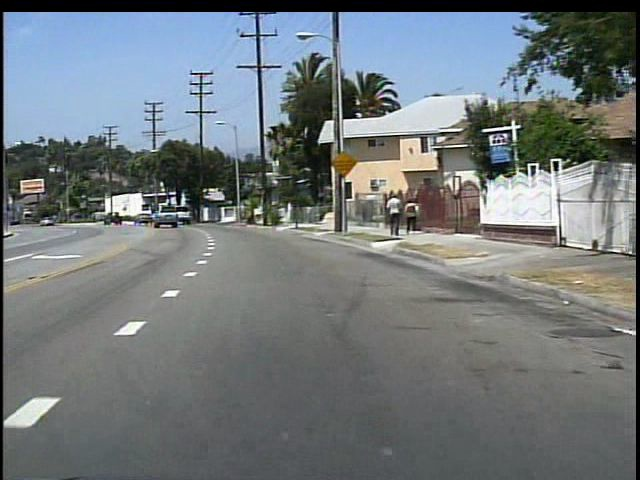person: (383, 190, 403, 238), (400, 197, 419, 235)
